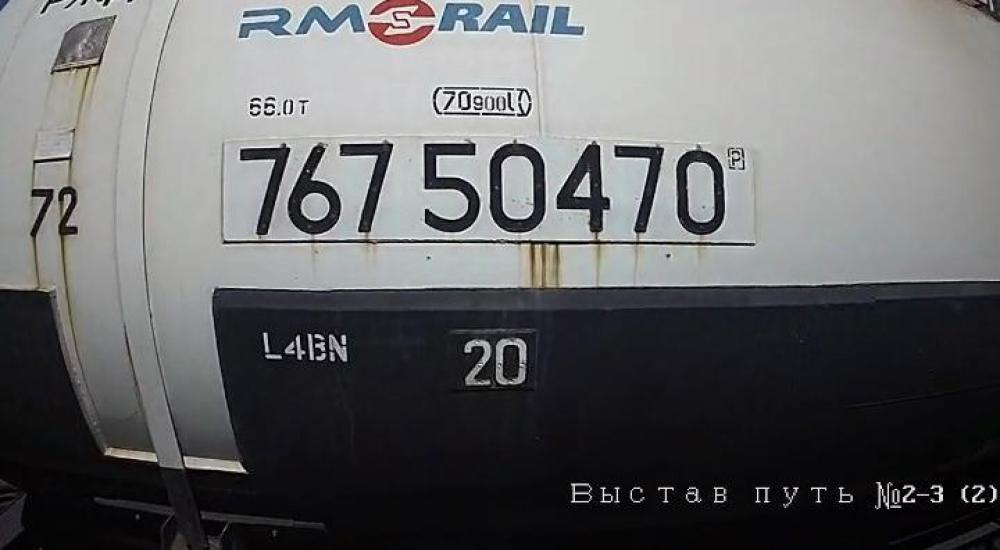Wagon-number: (234, 137, 729, 241)
